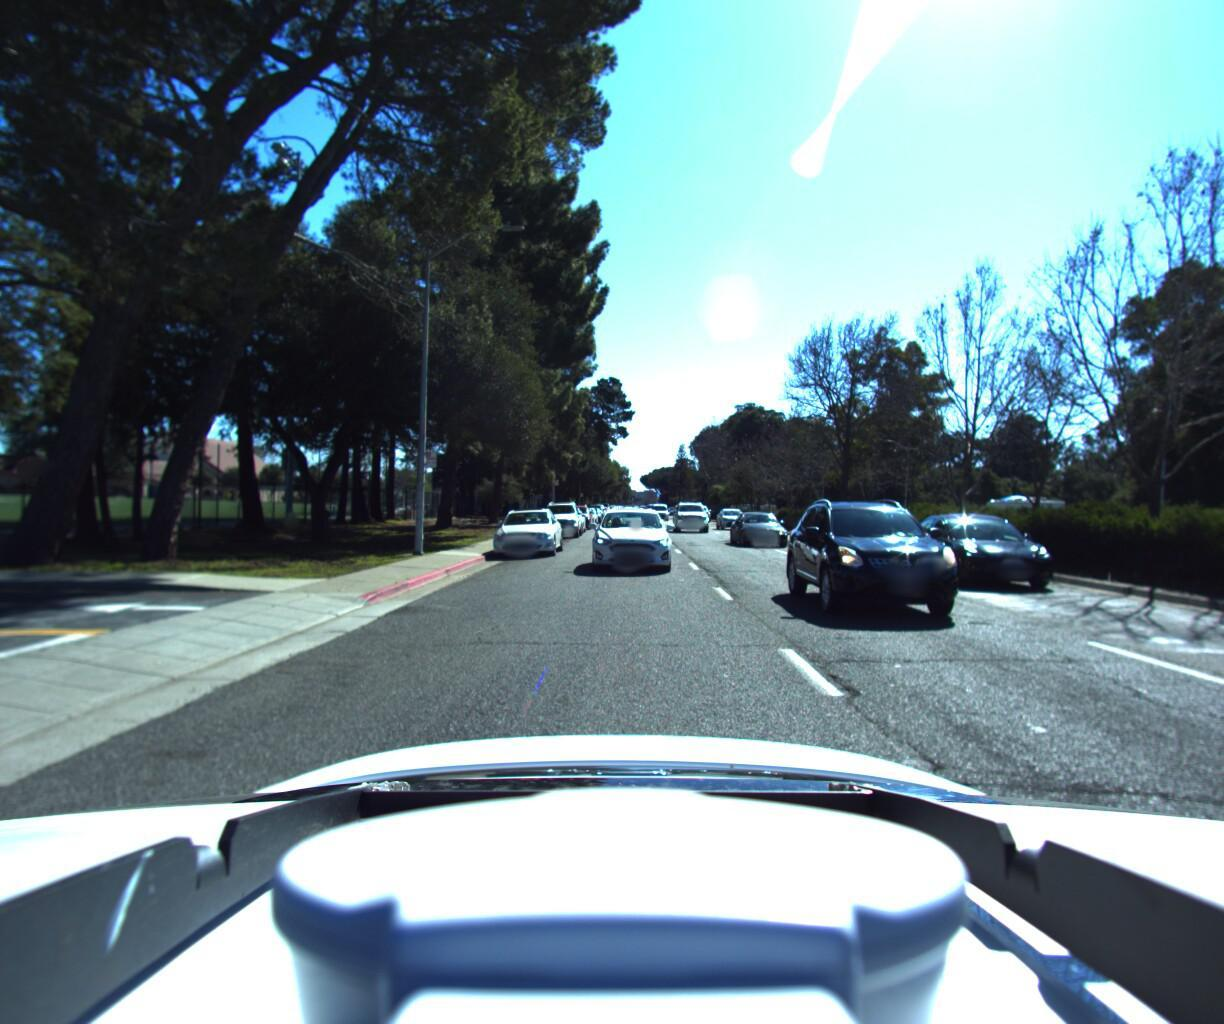car: (793, 492, 1031, 645), (907, 516, 1083, 597), (582, 504, 670, 576), (486, 505, 561, 558), (729, 510, 799, 549), (533, 500, 582, 538), (670, 498, 714, 534), (560, 501, 594, 529), (714, 507, 750, 531), (649, 502, 671, 521)
other_vehicle: (974, 492, 1076, 549)
